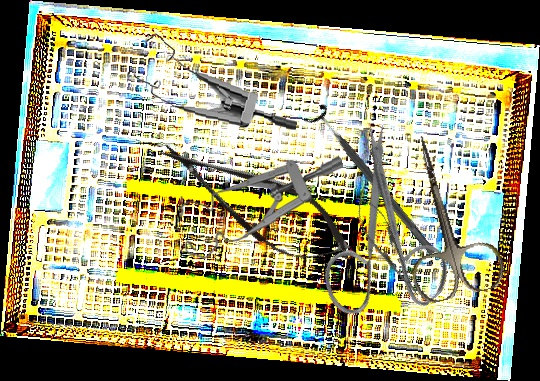Fixation Ring: (302, 101, 444, 263)
Iris Scissors: (261, 118, 493, 351), (378, 124, 509, 307)
Micro Scissor: (145, 119, 366, 286)
Needle Holder: (346, 189, 428, 304)
Speculum: (123, 29, 304, 134), (177, 155, 346, 260)
